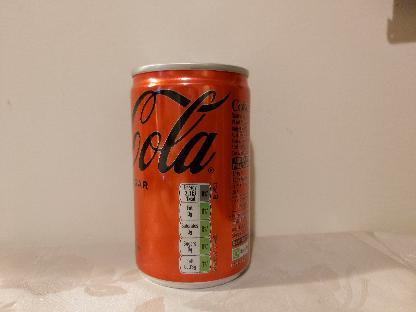Can: (129, 62, 252, 290)
